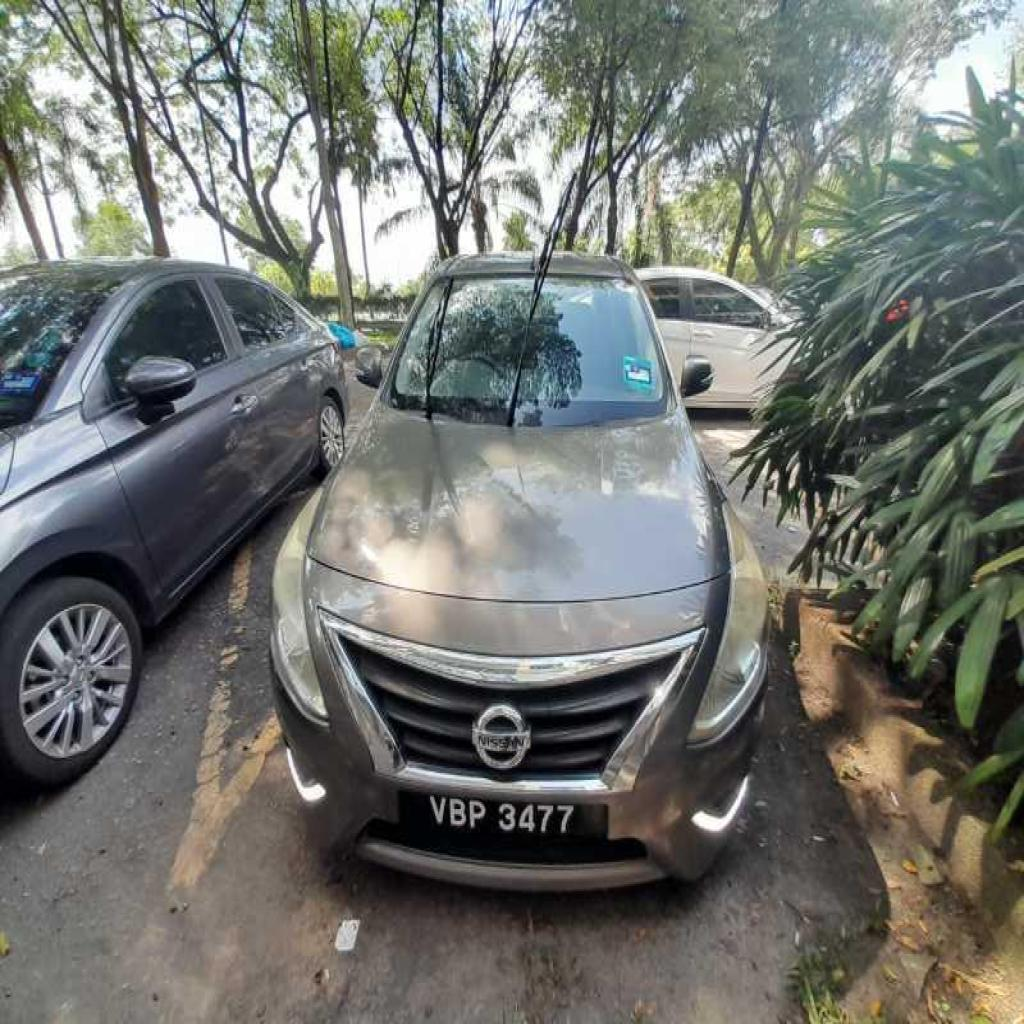car: (273, 253, 765, 886)
car plate: (401, 789, 609, 841)
